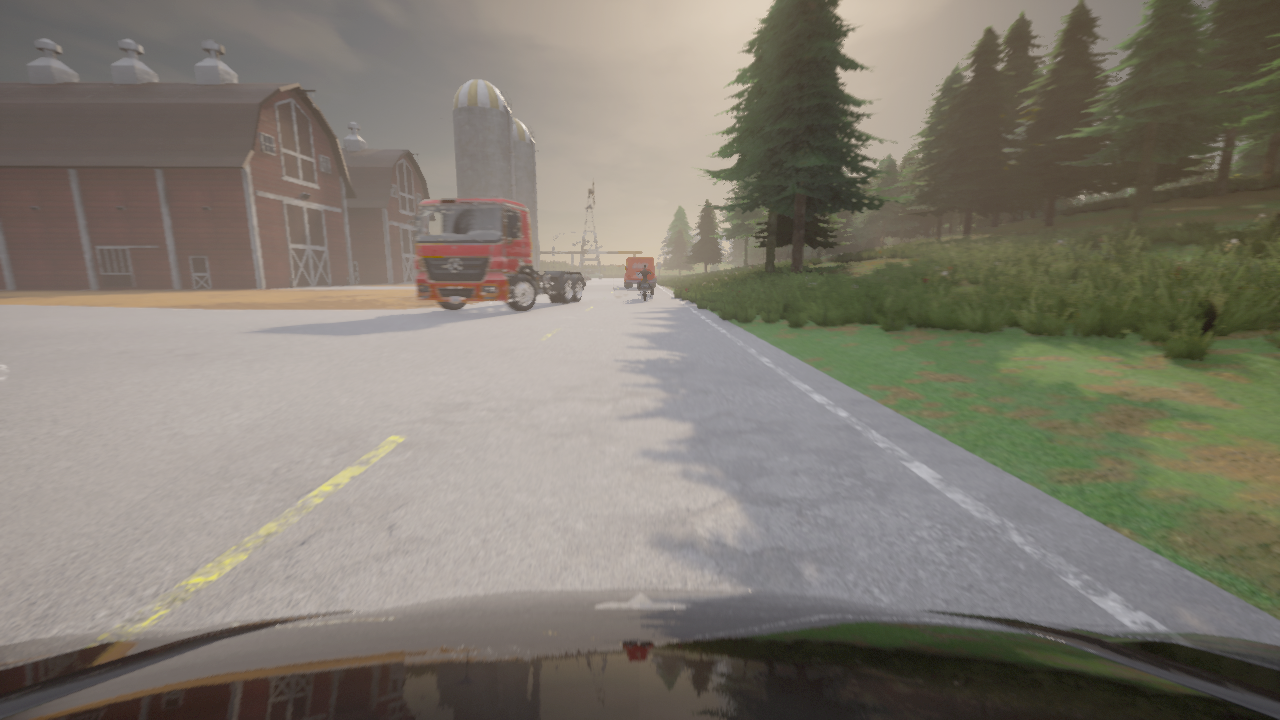cyclist: (0, 588, 1279, 719), (413, 198, 586, 312), (624, 258, 655, 287), (640, 282, 649, 301), (585, 272, 603, 278), (582, 274, 590, 281), (583, 271, 592, 274)
